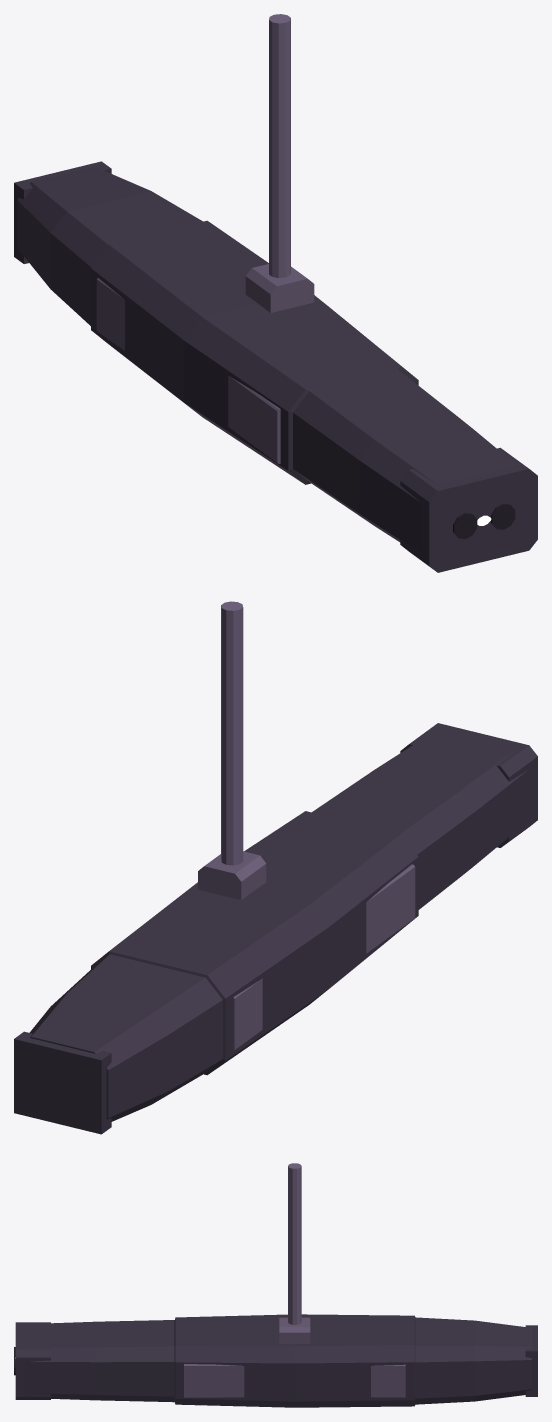
The picture shows the model from 3 angles, top to bottom: view 1: azimuth 30°, elevation 25°; view 2: azimuth 150°, elevation 25°; view 3: azimuth 270°, elevation 25°; orthographic projection. The views are drawn at different scales.
Visible parts, largest first — view 1: RIMWARD_HULL; view 2: RIMWARD_HULL; view 3: RIMWARD_HULL.
Part boxes in pixels (box(x1,y1,x2,y2)): RIMWARD_HULL: box(14, 14, 537, 572); RIMWARD_HULL: box(14, 601, 537, 1134); RIMWARD_HULL: box(14, 1163, 537, 1407).
Size of the model in its own units: 1.32 by 3.34 by 6.81.
